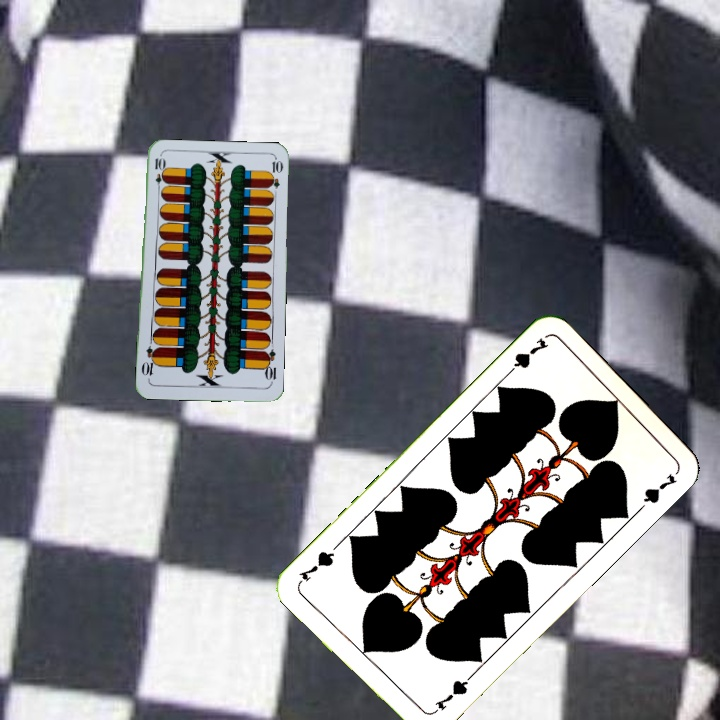E10: (260, 346, 279, 386), (151, 154, 165, 194)
G7: (501, 334, 552, 380), (427, 671, 474, 717)
